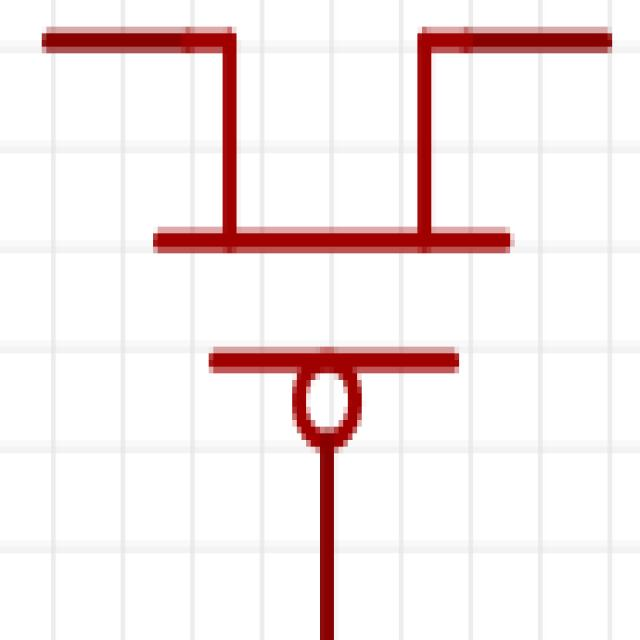pmos: (73, 0, 595, 640)
